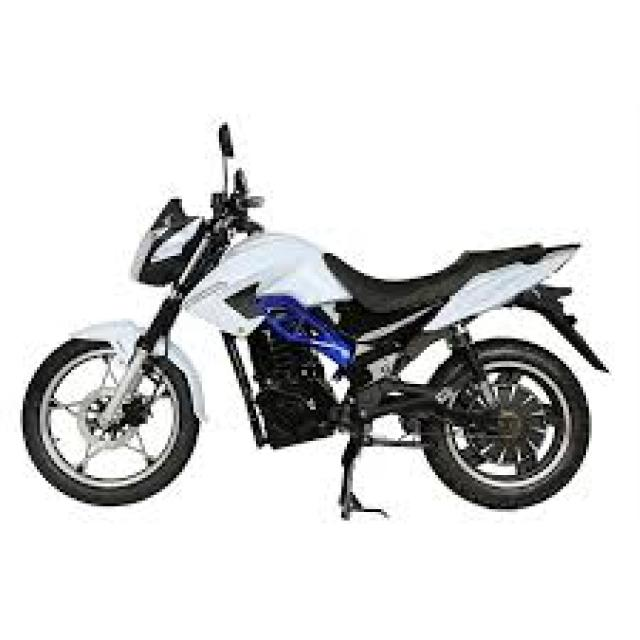bodaboda: (1, 104, 632, 535)
